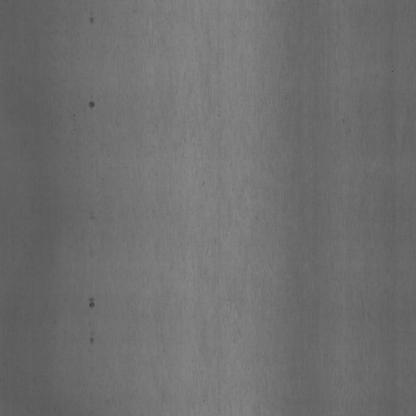oil_spot: (86, 293, 100, 356), (88, 89, 95, 114), (87, 7, 94, 29)
